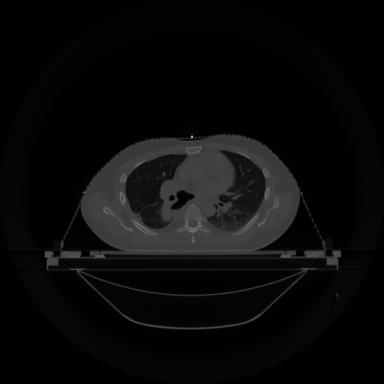body: (81, 135, 300, 251)
cord: (176, 204, 212, 242)
paru kanan: (126, 154, 186, 228)
paru kiri: (208, 151, 266, 231)
